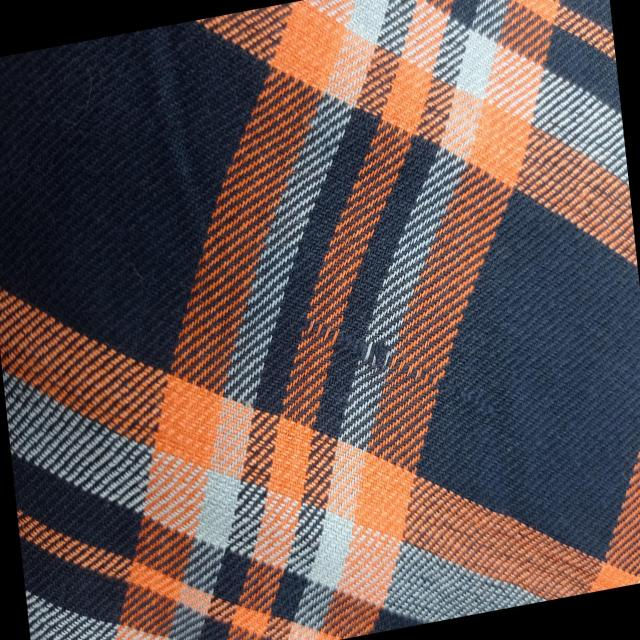stain: (348, 318, 400, 392)
